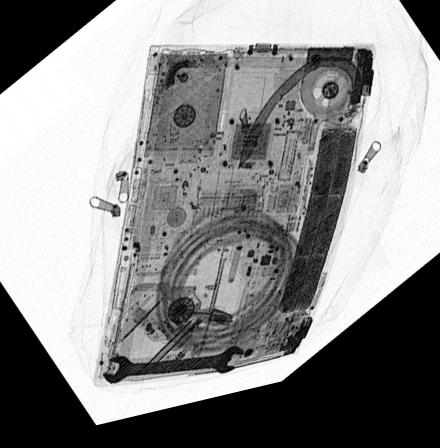Wrench: (99, 355, 247, 390)
